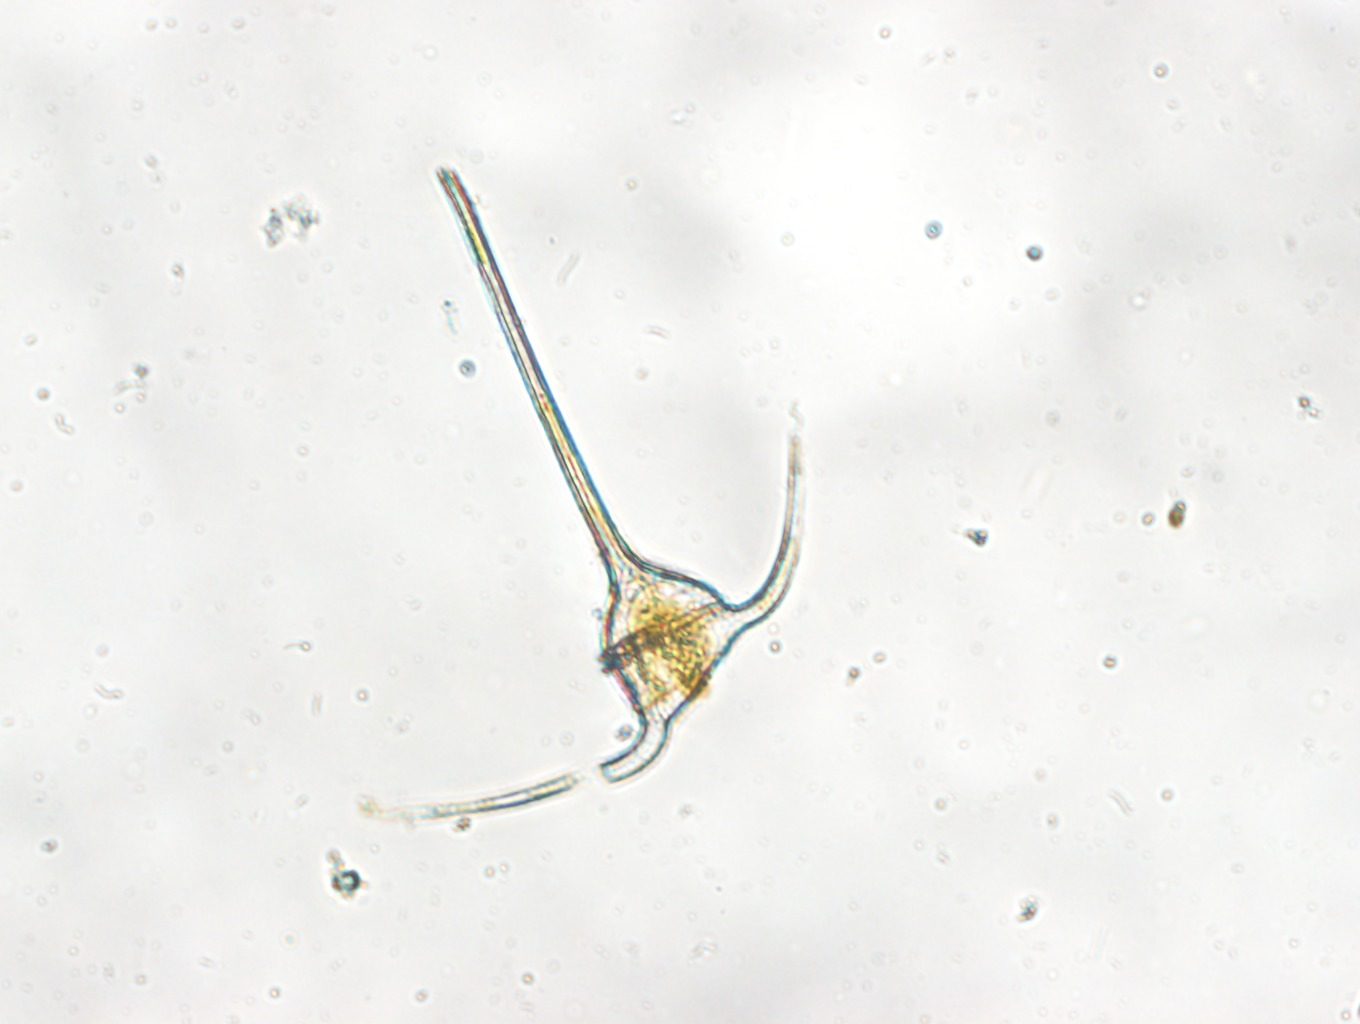ceratium trichoceros: (359, 153, 814, 833)
